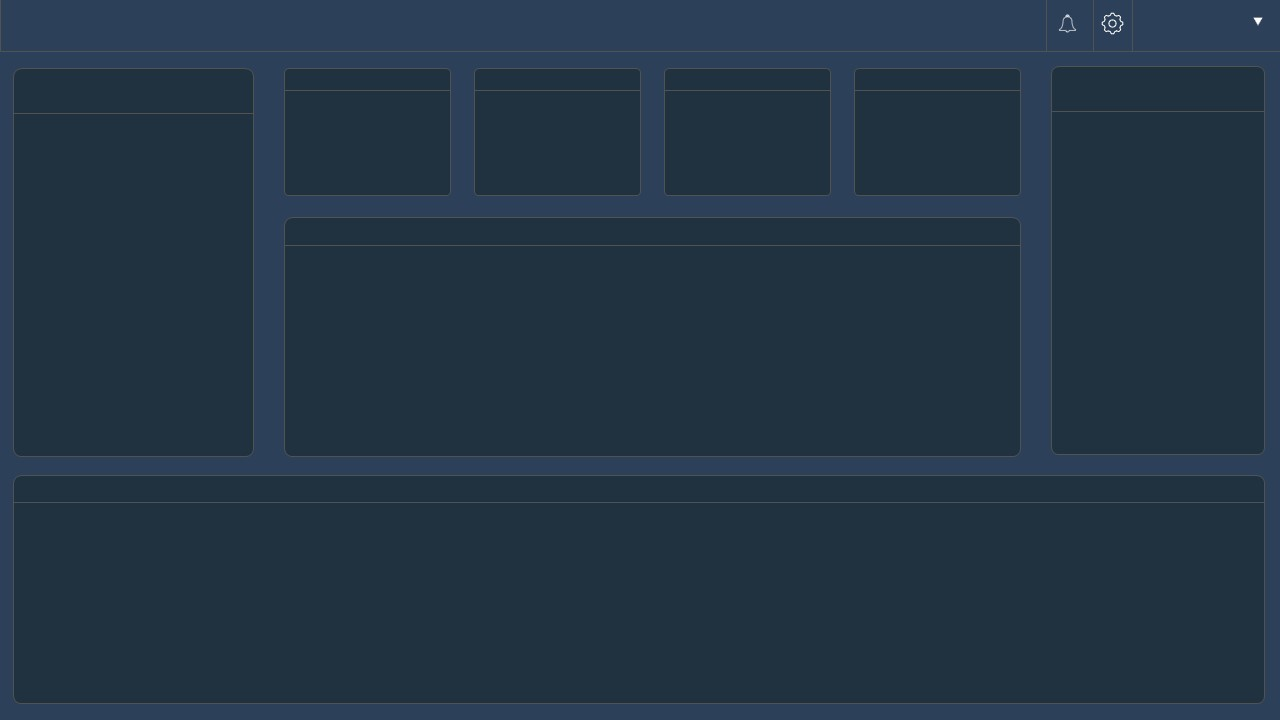

The dashboard page shown, as its layout file describes it:
{"tool":"powerbi","page":{"name":"Page 1","canvas":[1280,720],"ordinal":0},"visuals":[{"type":"card","fields":{"Values":["Sum(fPagamentos.Amount Paid)"]},"box":[601.5,115.5,258.4,181.4],"z":0},{"type":"card","fields":{"Values":["Sum(fRecebimentos.Amount Received)"]},"box":[272.7,113.3,289.2,186.9],"z":1000},{"type":"slicer","fields":{"Values":["calenderTbl.FY"]},"box":[16.5,80.3,218.8,80.3],"z":2000},{"type":"slicer","fields":{"Values":["calenderTbl.Fiscal Qtr"]},"box":[24.2,171.5,200.1,63.8],"z":3000},{"type":"slicer","fields":{"Values":["calenderTbl.Month"]},"box":[24.2,271.6,200.1,74.8],"z":4000},{"type":"multiRowCard","fields":{"Values":["Measure.MostExpGroup"]},"box":[938,571.8,298,93.5],"z":5000},{"type":"multiRowCard","fields":{"Values":["dPlanoContas.Sub Category","Measure.Expence Total","dPlanoContas.Type"]},"box":[256.2,380.5,614.7,307.9],"z":6000},{"type":"card","fields":{"Values":["Measure.User Name"]},"box":[1137,3.3,132,40.7],"z":7000},{"type":"pageNavigator","box":[224.1,11.4,600.6,50],"z":8000},{"type":"card","fields":{"Values":["MEasure.Notification ON"]},"box":[923.2,128.9,298.2,207],"z":9000}]}

Visuals, with their boxes on the page's 1280x720 design canvas (x1, y1, x2, y2). These are canvas units, not pixel positions in the 1280x720 screenshot, which may show the page scaled, cropped or inside an application window:
card - Sum(fPagamentos.Amount Paid): bbox=[602, 116, 860, 297]
card - Sum(fRecebimentos.Amount Received): bbox=[273, 113, 562, 300]
slicer - calenderTbl.FY: bbox=[16, 80, 235, 161]
slicer - calenderTbl.Fiscal Qtr: bbox=[24, 172, 224, 235]
slicer - calenderTbl.Month: bbox=[24, 272, 224, 346]
multiRowCard - Measure.MostExpGroup: bbox=[938, 572, 1236, 665]
multiRowCard - dPlanoContas.Sub Category x Measure.Expence Total: bbox=[256, 380, 871, 688]
card - Measure.User Name: bbox=[1137, 3, 1269, 44]
pageNavigator: bbox=[224, 11, 825, 61]
card - MEasure.Notification ON: bbox=[923, 129, 1221, 336]
